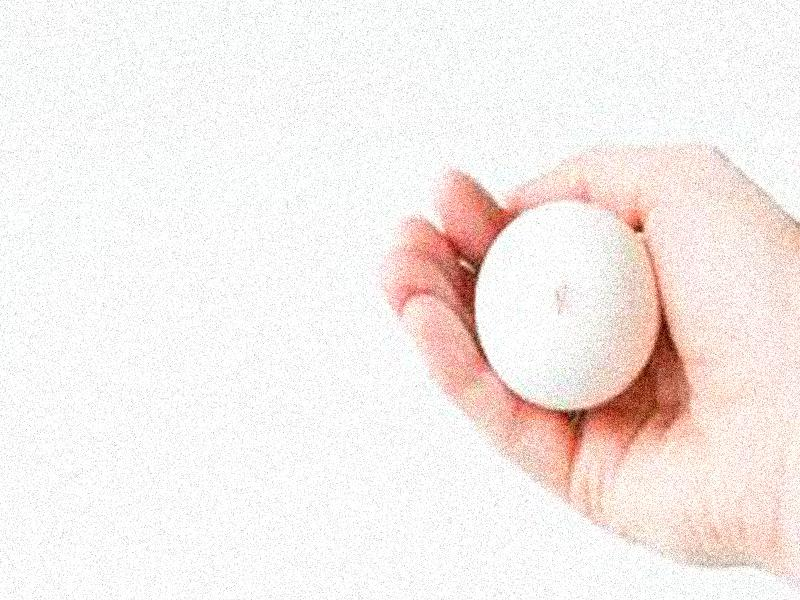Eggs: (474, 207, 657, 407)
